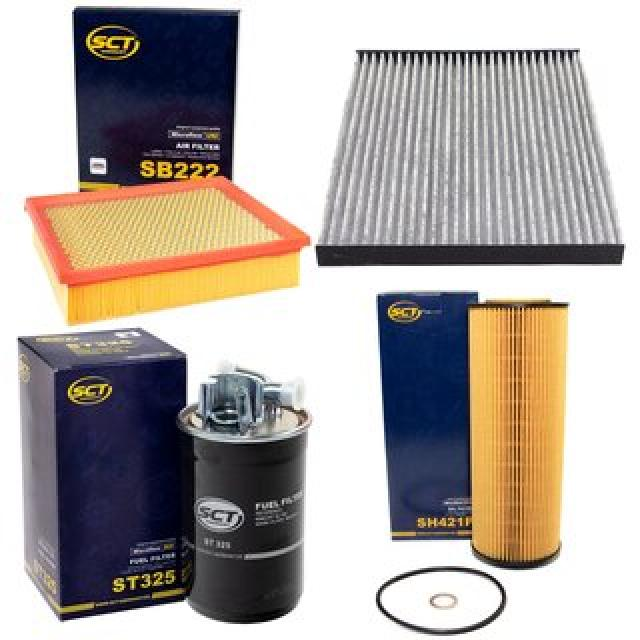air_filter: (313, 20, 637, 277), (23, 170, 309, 328)
oil_filter: (183, 374, 321, 627), (468, 292, 567, 579)
